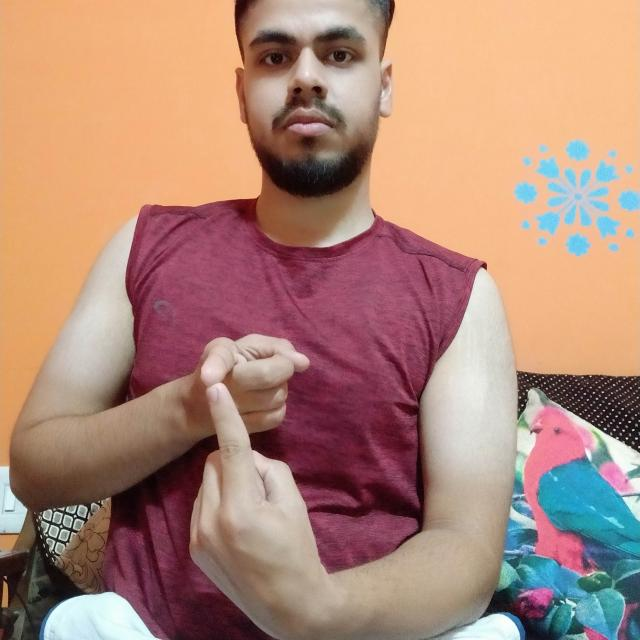I: (177, 327, 339, 626)
